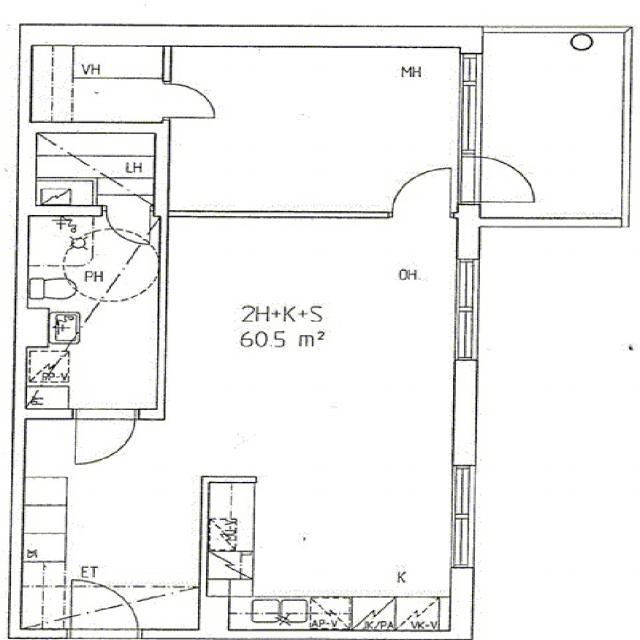door: (82, 582, 142, 640), (460, 157, 540, 200), (76, 408, 134, 464), (392, 167, 450, 217), (106, 206, 150, 250), (162, 84, 214, 117)
